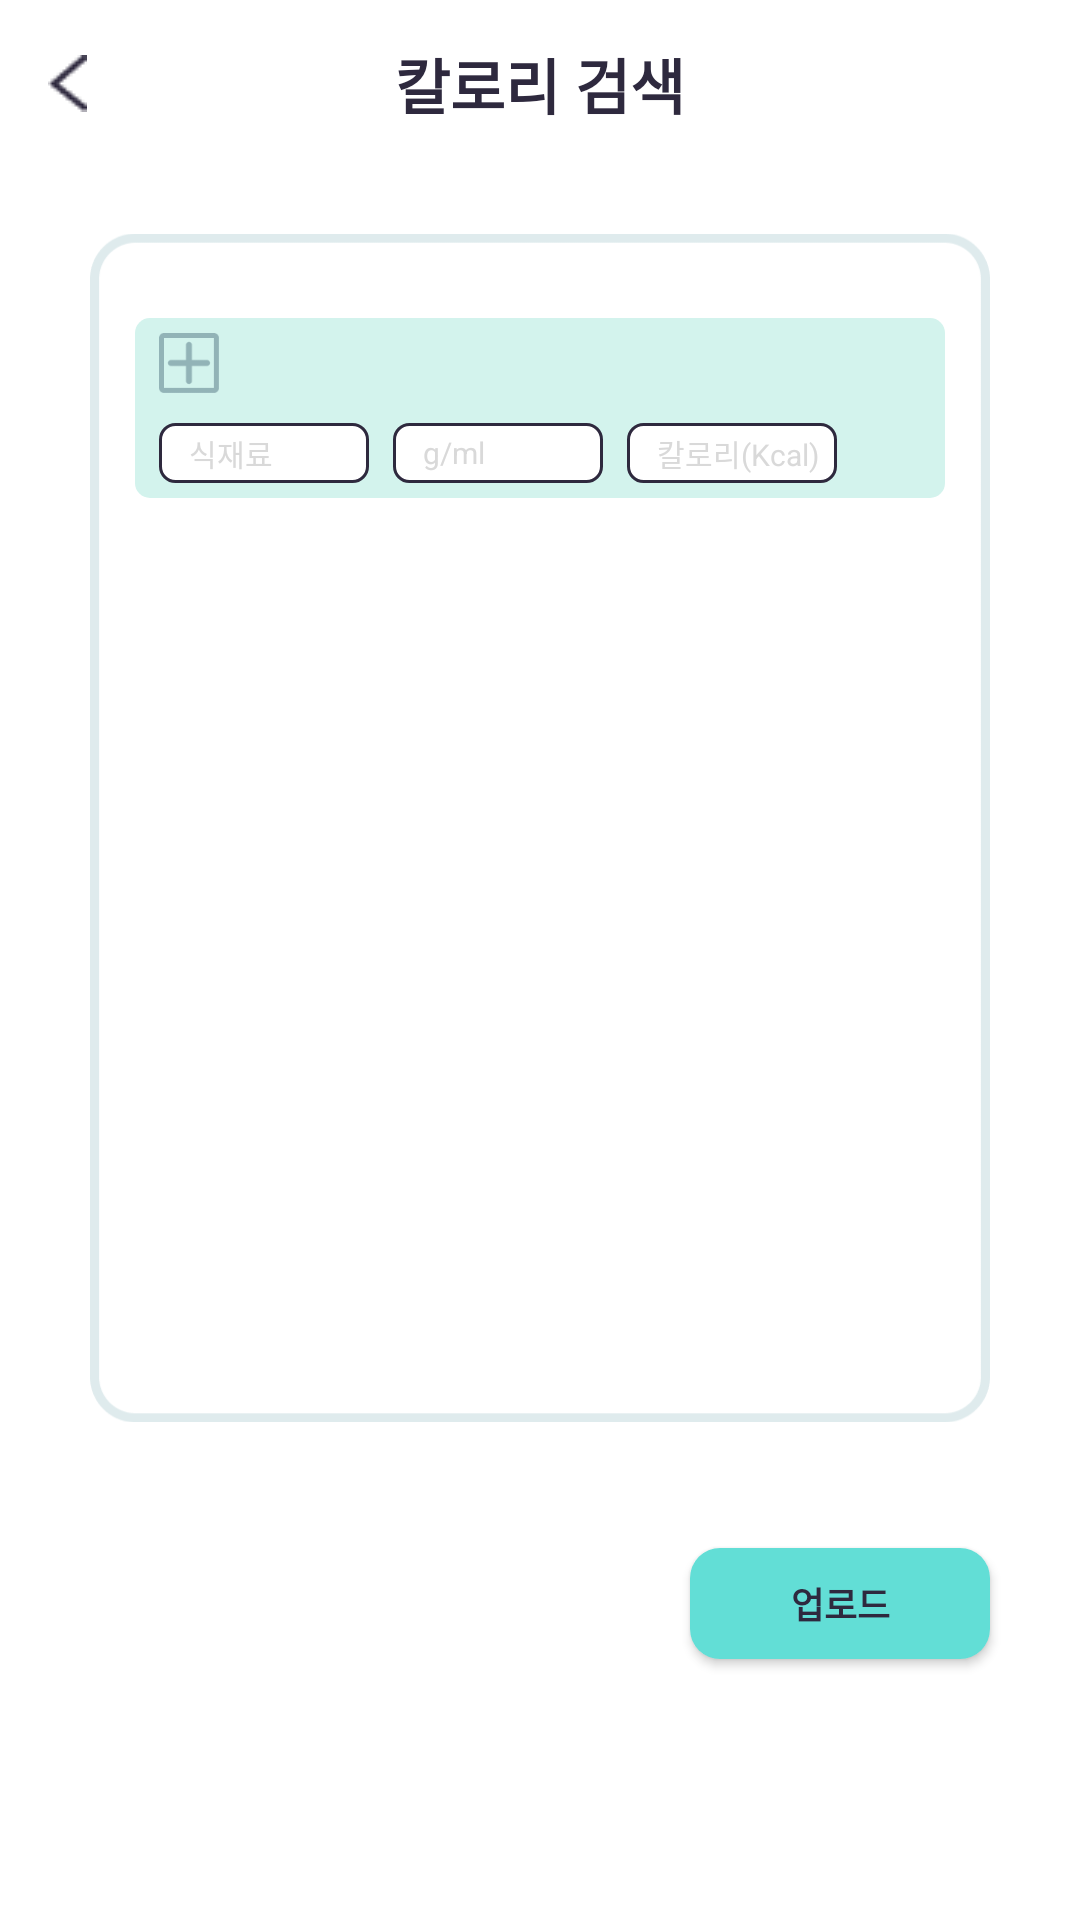

Icons on this 1080×1920 Android screen, each with the point to tap as (x,y):
backbutton: (67,83)
calorie plus: (189,363)
